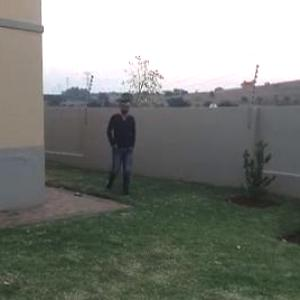follow: (102, 94, 138, 198)
